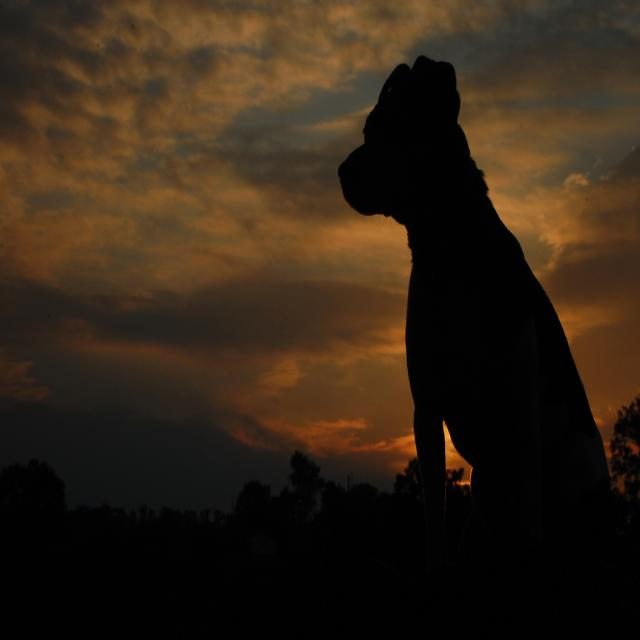Dog: (297, 50, 640, 629)
